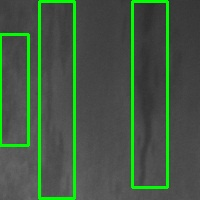inclusion: (39, 1, 74, 198), (132, 1, 167, 187), (1, 35, 28, 145)
